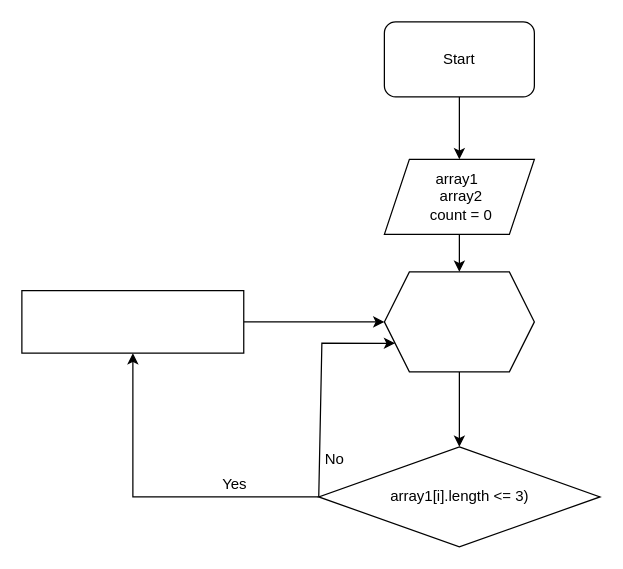
This 623x569 diagram has some shape labels left out. Here are the shapes that lost their labels. From the top down, the centre of each, then its label:
the point at 132,321: array2[count] = array1[i] count+=1;
the point at 458,321: i = 0; i < array1.length; i+=1
